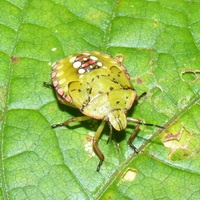insect: (43, 51, 162, 170)
